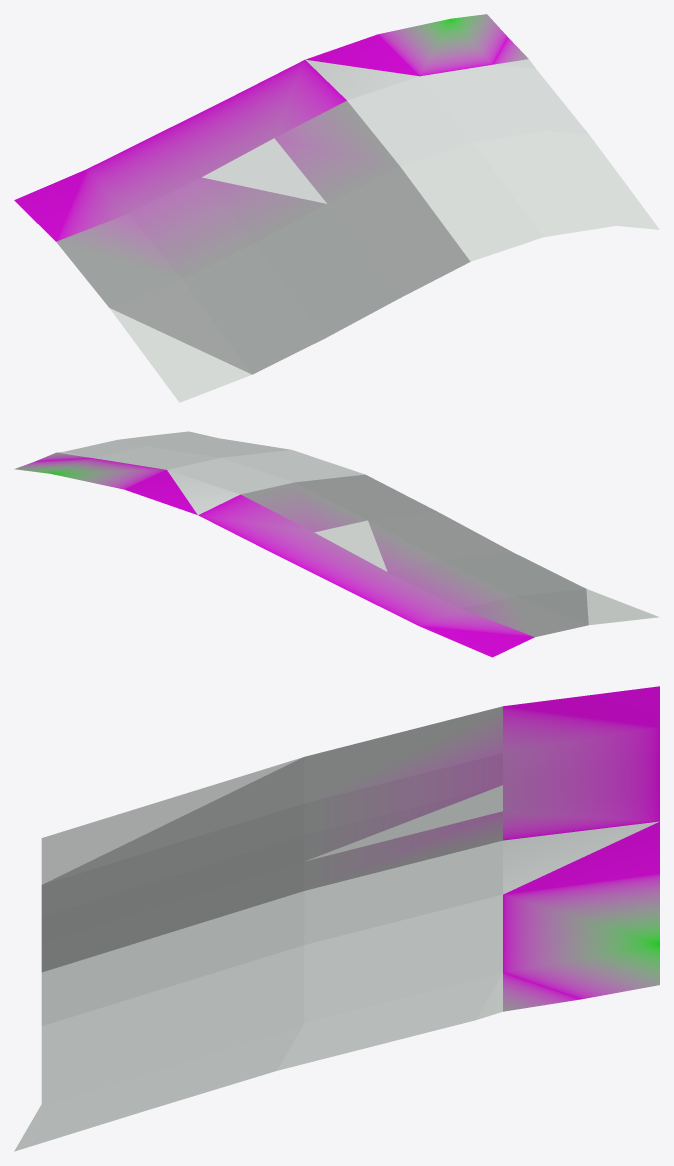
3 renders of one model, top to bottom at view 1: azimuth 30°, elevation 25°; view 2: azimuth 150°, elevation 25°; view 3: azimuth 270°, elevation 25°, orthographic. The views are drawn at different scales.
Visible parts, largest first — view 1: G:\FFXIV-MapTools\exports\f1f1\bg\ffxiv\fst_f1\fld\f1f1\bgpl (×3); view 2: G:\FFXIV-MapTools\exports\f1f1\bg\ffxiv\fst_f1\fld\f1f1\bgpl (×3); view 3: G:\FFXIV-MapTools\exports\f1f1\bg\ffxiv\fst_f1\fld\f1f1\bgpl (×3).
Part boxes in pixels (x1=…): G:\FFXIV-MapTools\exports\f1f1\bg\ffxiv\fst_f1\fld\f1f1\bgpl (×3): x1=14, y1=14, x2=659, y2=402; G:\FFXIV-MapTools\exports\f1f1\bg\ffxiv\fst_f1\fld\f1f1\bgpl (×3): x1=14, y1=431, x2=659, y2=657; G:\FFXIV-MapTools\exports\f1f1\bg\ffxiv\fst_f1\fld\f1f1\bgpl (×3): x1=14, y1=686, x2=659, y2=1151.
Size of the model in its own units: 104 by 33.31 by 65.87.
